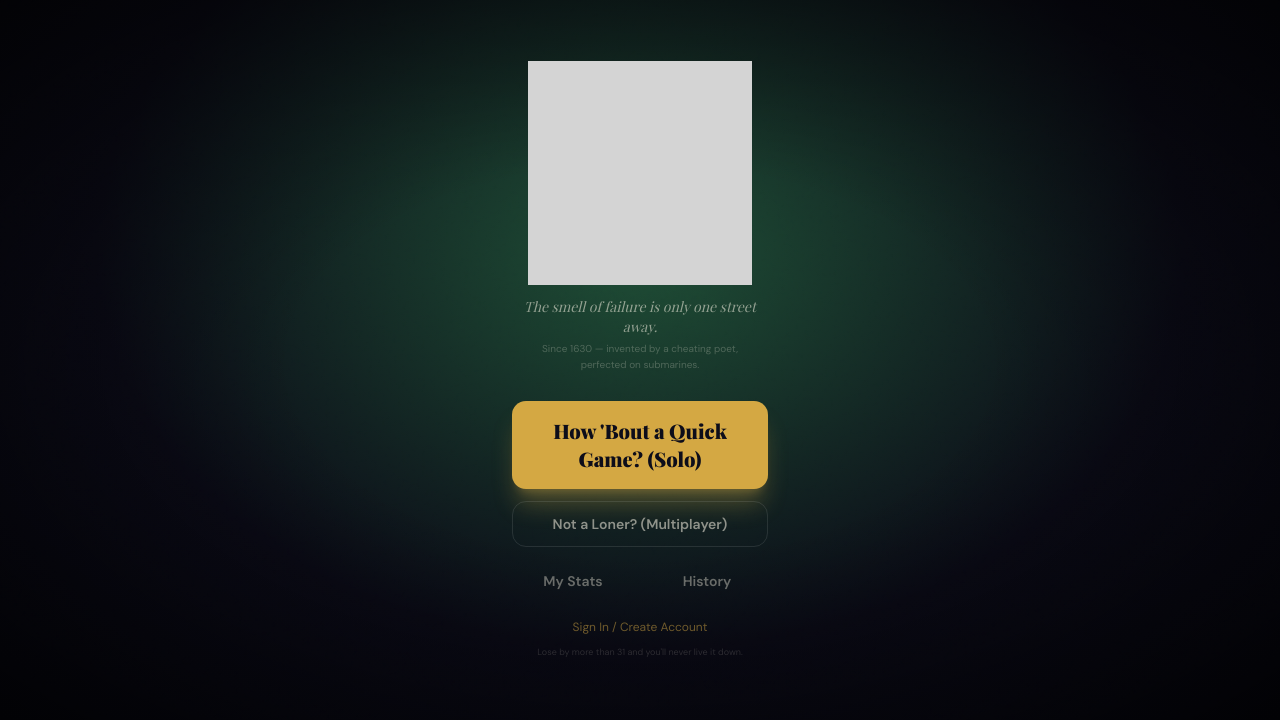
GameScreen › navigates to online menu when Play Online is clicked
Click the button with test id "play-online-btn": (640, 524) [512,501,768,547]
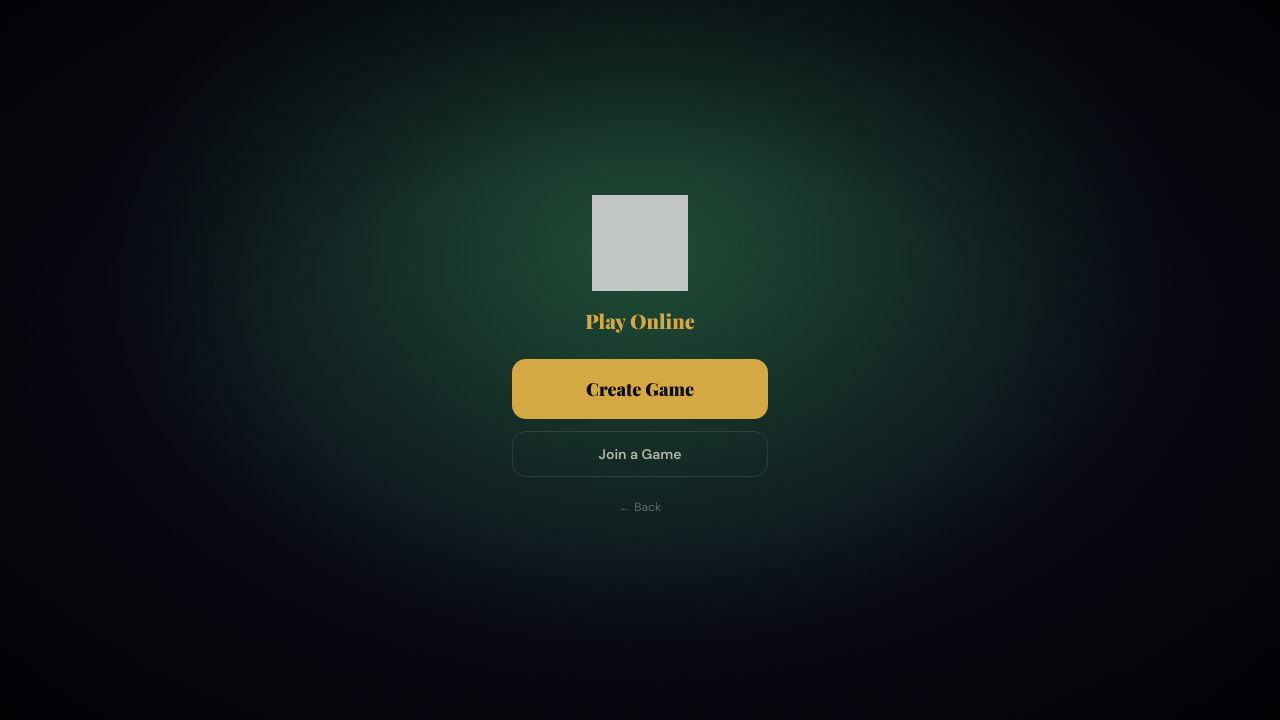
Now the button with test id "create-game-btn" is shown, box [512,359,768,419]
